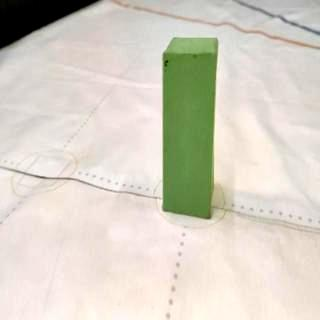greenbox: (162, 35, 219, 222)
